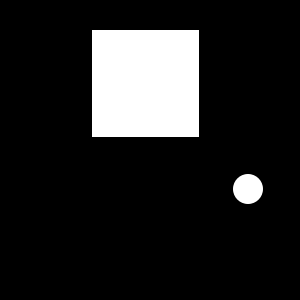circle: (92, 30, 199, 137)
rectangle: (233, 174, 263, 204)
